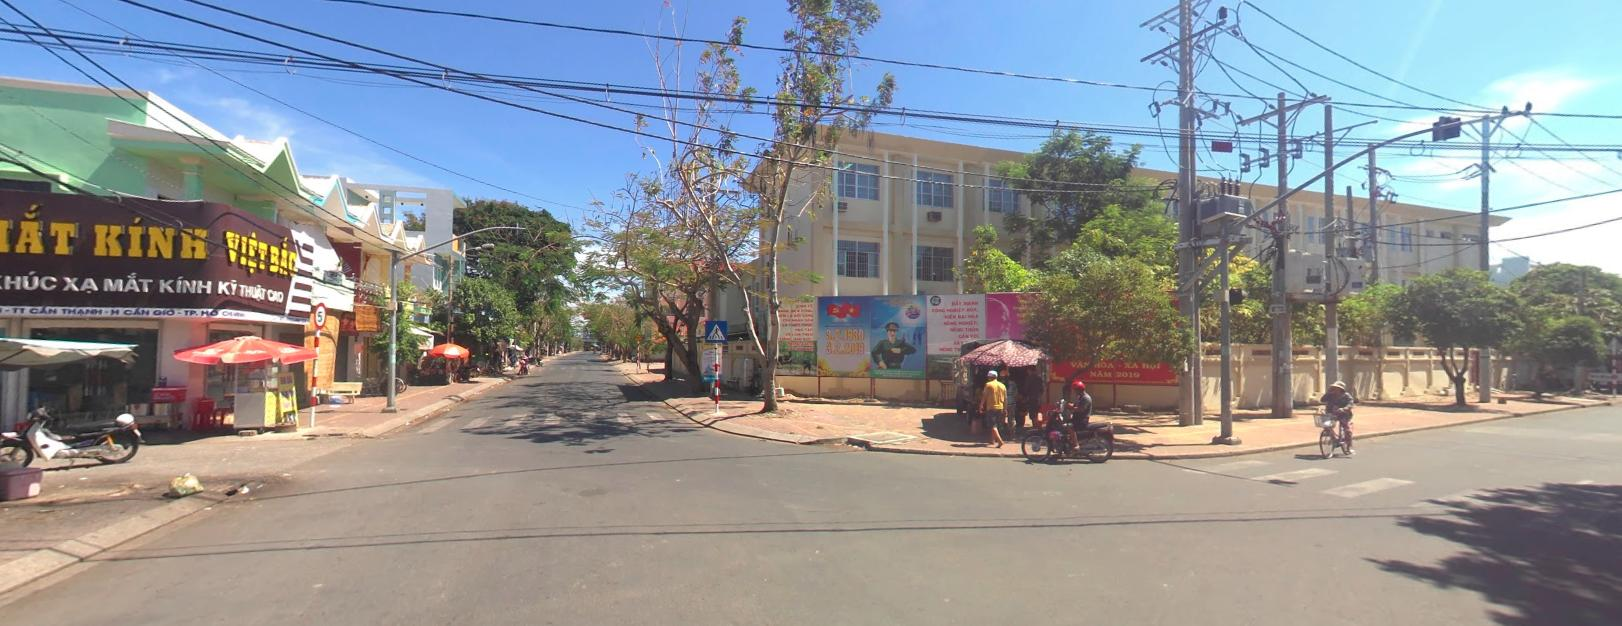Gioi han toc do: (313, 301, 327, 327)
Nguy hiem: (633, 332, 641, 339)
